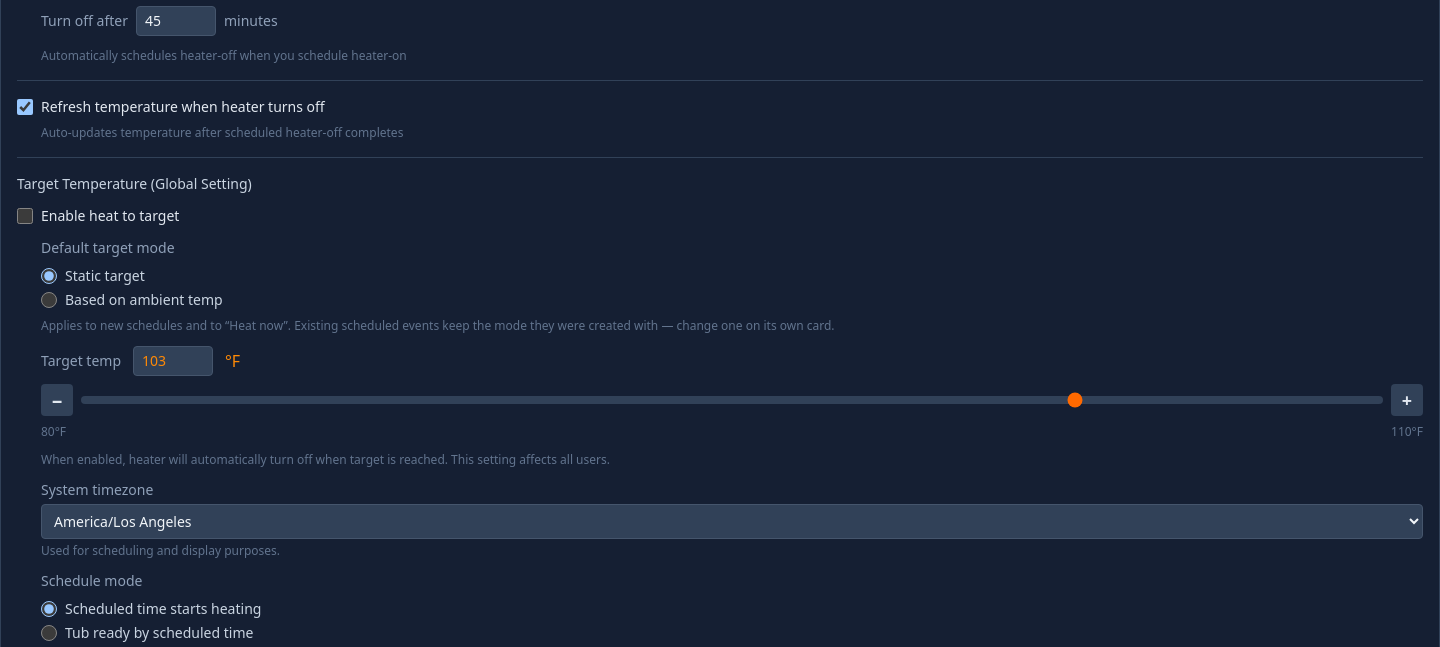
Test case: SettingsPanel › temperature increment/decrement buttons › clicking increment buttons marks settings as dirty
Click the button named "increase temperature" at [1407, 400], box [1391,384,1423,416]
(page scrolled)
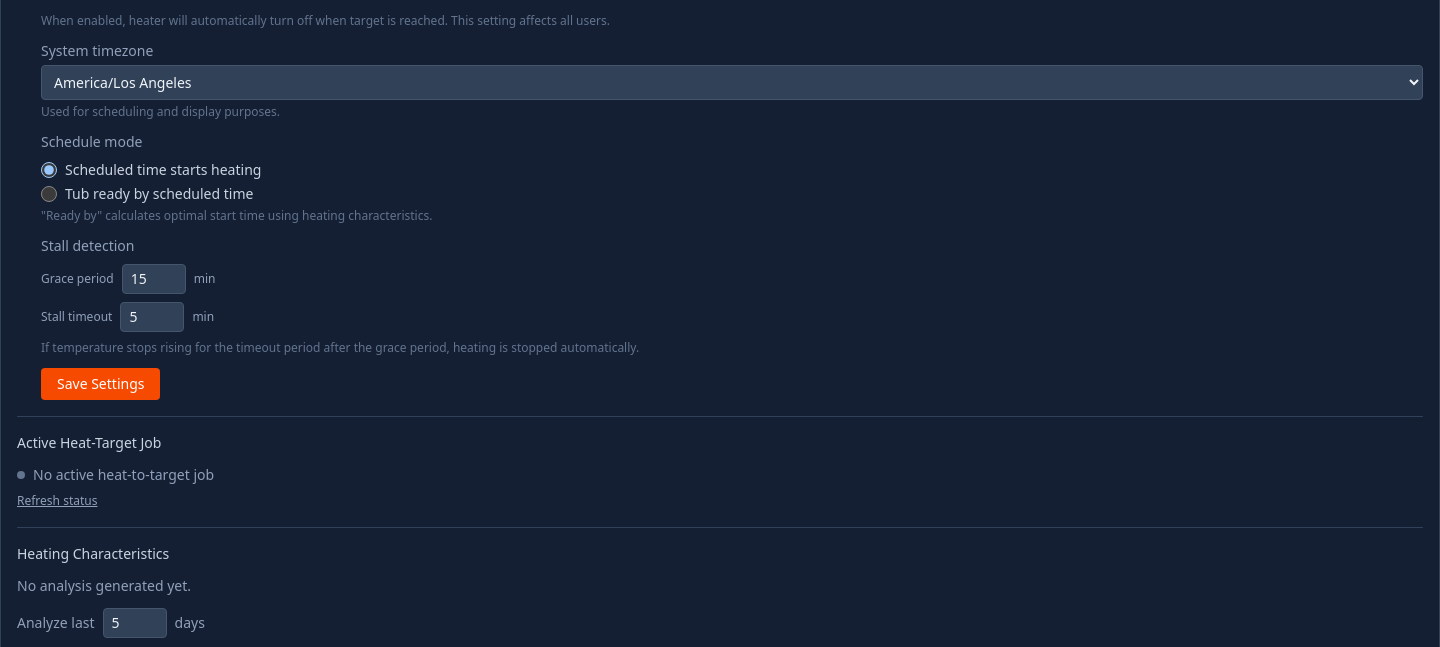
Expected: the button "Save Settings" is shown, [41,368,160,400]
